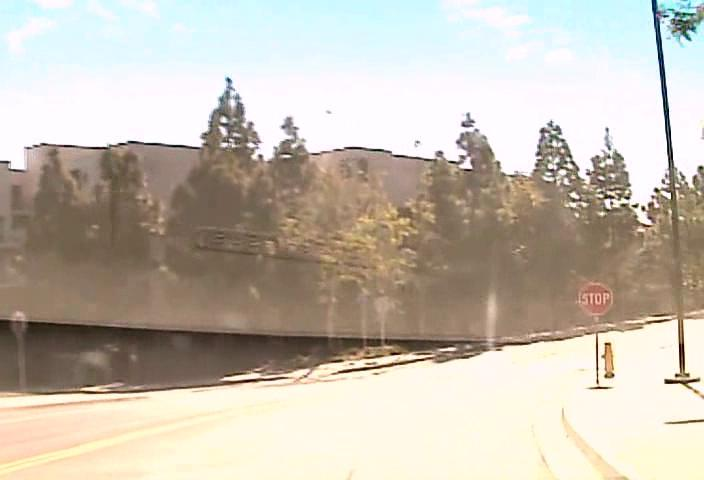stop: (579, 281, 613, 315)
